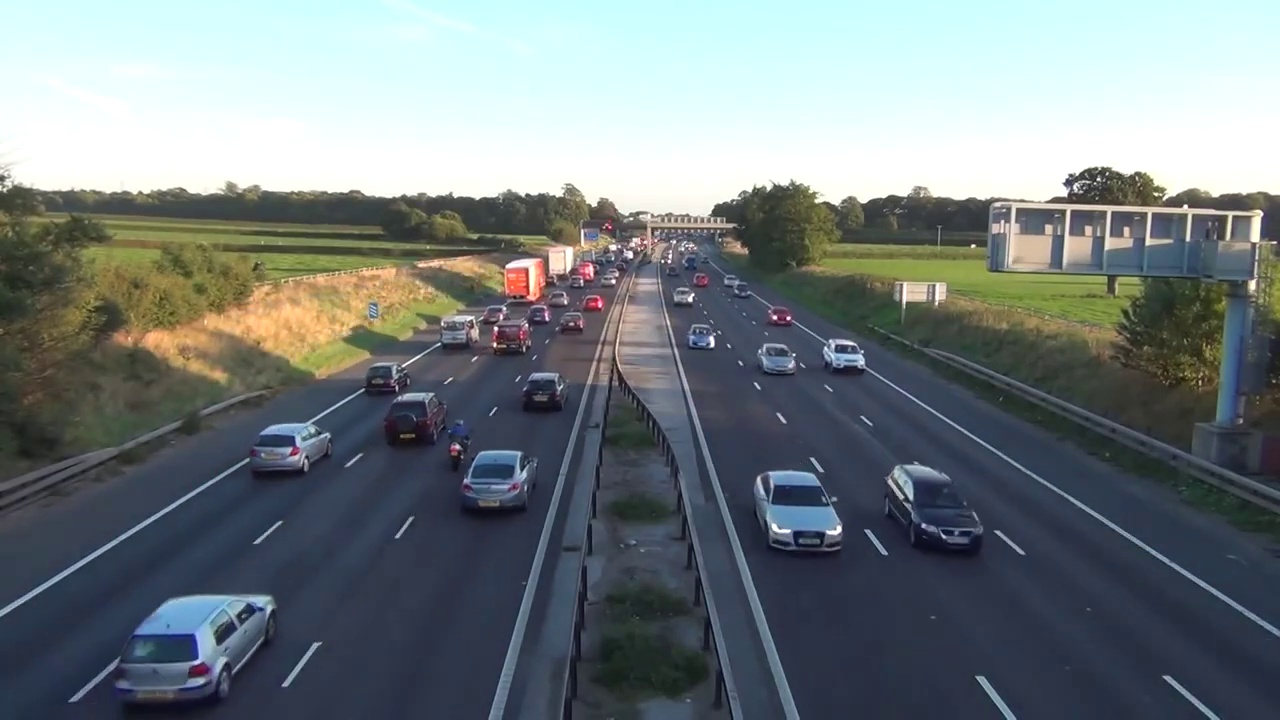bus: (113, 586, 276, 696), (878, 463, 985, 558), (744, 465, 853, 558), (461, 450, 542, 521), (250, 422, 341, 479), (374, 391, 449, 442), (520, 367, 574, 409), (365, 360, 415, 400), (821, 337, 867, 377), (756, 343, 803, 377), (685, 323, 717, 352), (558, 311, 584, 335), (767, 305, 792, 328), (483, 305, 510, 325), (671, 286, 696, 306), (581, 295, 607, 313), (526, 306, 552, 324), (548, 290, 571, 308), (734, 281, 753, 300), (693, 271, 709, 288), (724, 275, 741, 291), (599, 275, 618, 289), (568, 275, 584, 290), (545, 272, 557, 286), (665, 266, 679, 277), (606, 268, 620, 279), (614, 263, 626, 269), (591, 264, 599, 273)
car: (502, 255, 547, 305), (548, 246, 574, 280)
jeep: (442, 418, 466, 474)
lorry: (438, 315, 480, 348), (493, 319, 530, 353), (574, 257, 579, 270)
minibus: (577, 263, 595, 281), (683, 254, 697, 269)
